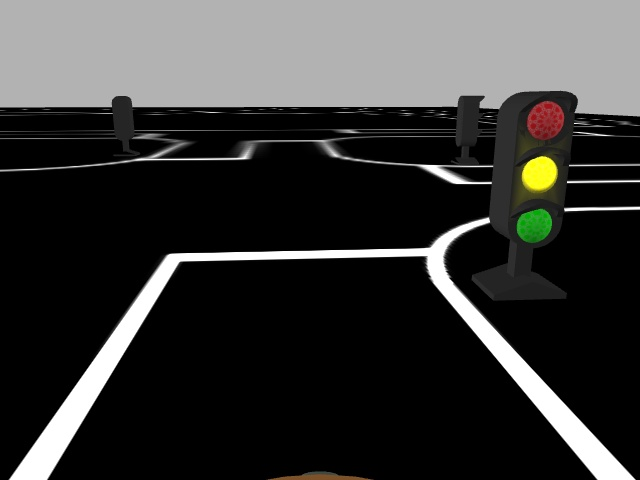yellow_light: (499, 88, 578, 252)
